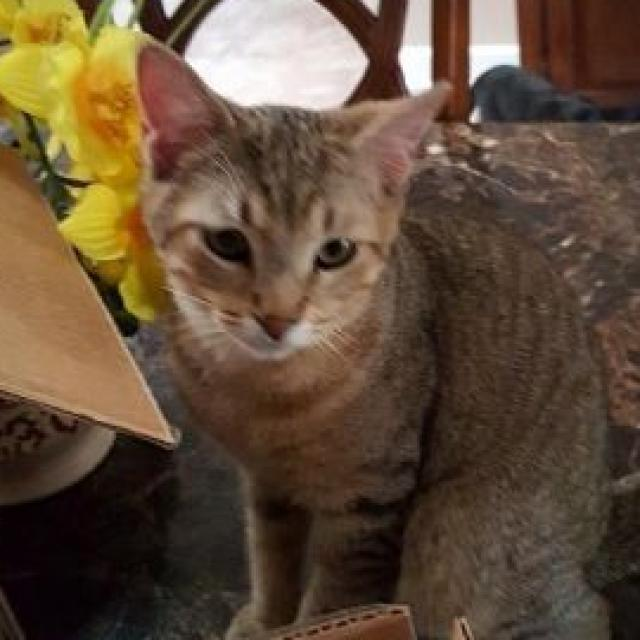Abyssinian: (126, 38, 621, 640)
